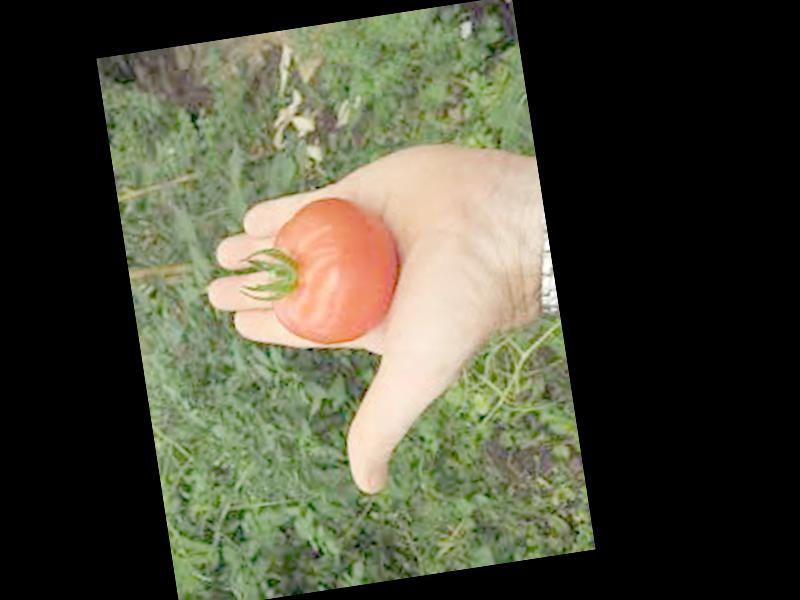Tomato: (259, 187, 407, 353)
